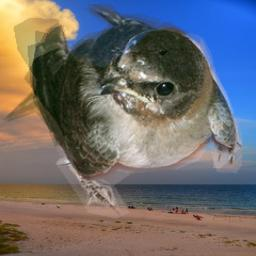Swallow: (0, 4, 242, 221)
